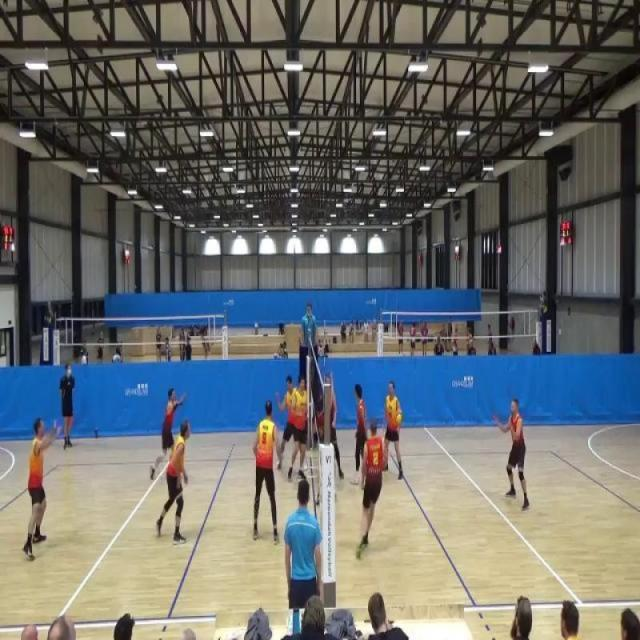volleyball: (395, 410, 404, 426)
